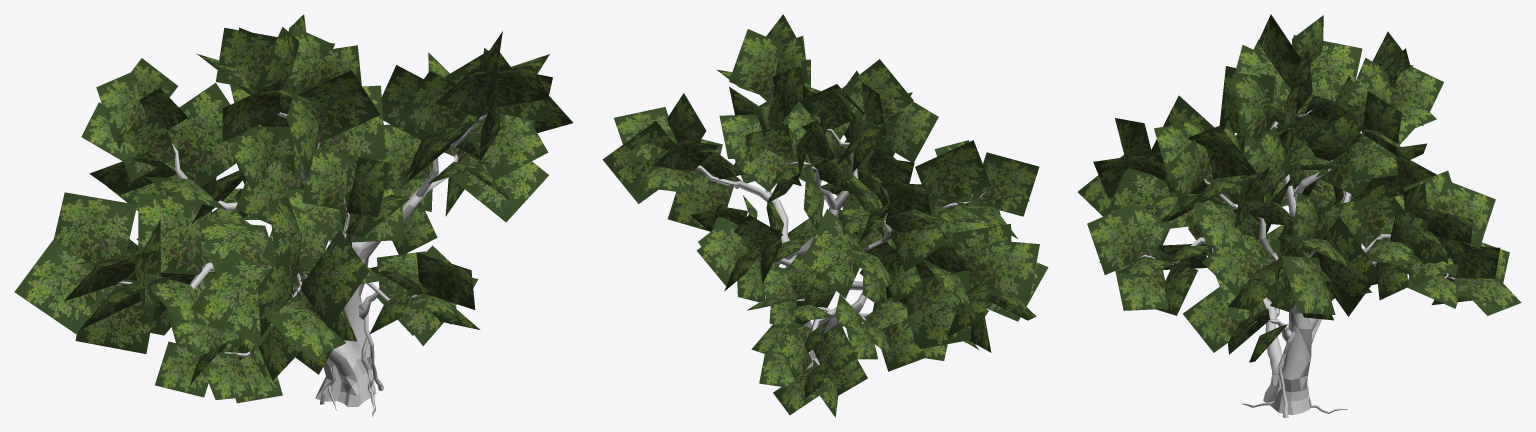
Rendered from JiaYeSiWai1_ShuLv_4.FBX.
3 views of the same model, side by side, from view 1: azimuth 30°, elevation 25°; view 2: azimuth 150°, elevation 25°; view 3: azimuth 270°, elevation 25° (orthographic). The views are drawn at different scales.
Parts seen in each view (by area): view 1: JiaYeSiWai1_ShuLv_4a, JiaYeSiWai1_ShuLv_4b, JiaYeSiWai1_ShuLv_4_Xzm; view 2: JiaYeSiWai1_ShuLv_4a, JiaYeSiWai1_ShuLv_4b, JiaYeSiWai1_ShuLv_4_Xzm; view 3: JiaYeSiWai1_ShuLv_4a, JiaYeSiWai1_ShuLv_4b, JiaYeSiWai1_ShuLv_4_Xzm.
Part boxes in pixels (x1,y1,x2,y2): JiaYeSiWai1_ShuLv_4a: [14, 14, 573, 403]; JiaYeSiWai1_ShuLv_4b: [118, 112, 487, 416]; JiaYeSiWai1_ShuLv_4_Xzm: [117, 98, 497, 406]; JiaYeSiWai1_ShuLv_4a: [602, 14, 1048, 417]; JiaYeSiWai1_ShuLv_4b: [697, 129, 985, 369]; JiaYeSiWai1_ShuLv_4_Xzm: [697, 98, 985, 369]; JiaYeSiWai1_ShuLv_4a: [1078, 14, 1521, 362]; JiaYeSiWai1_ShuLv_4b: [1140, 110, 1454, 417]; JiaYeSiWai1_ShuLv_4_Xzm: [1140, 110, 1452, 417].
Size of the model in its own units: 1930 by 1365 by 1531.
